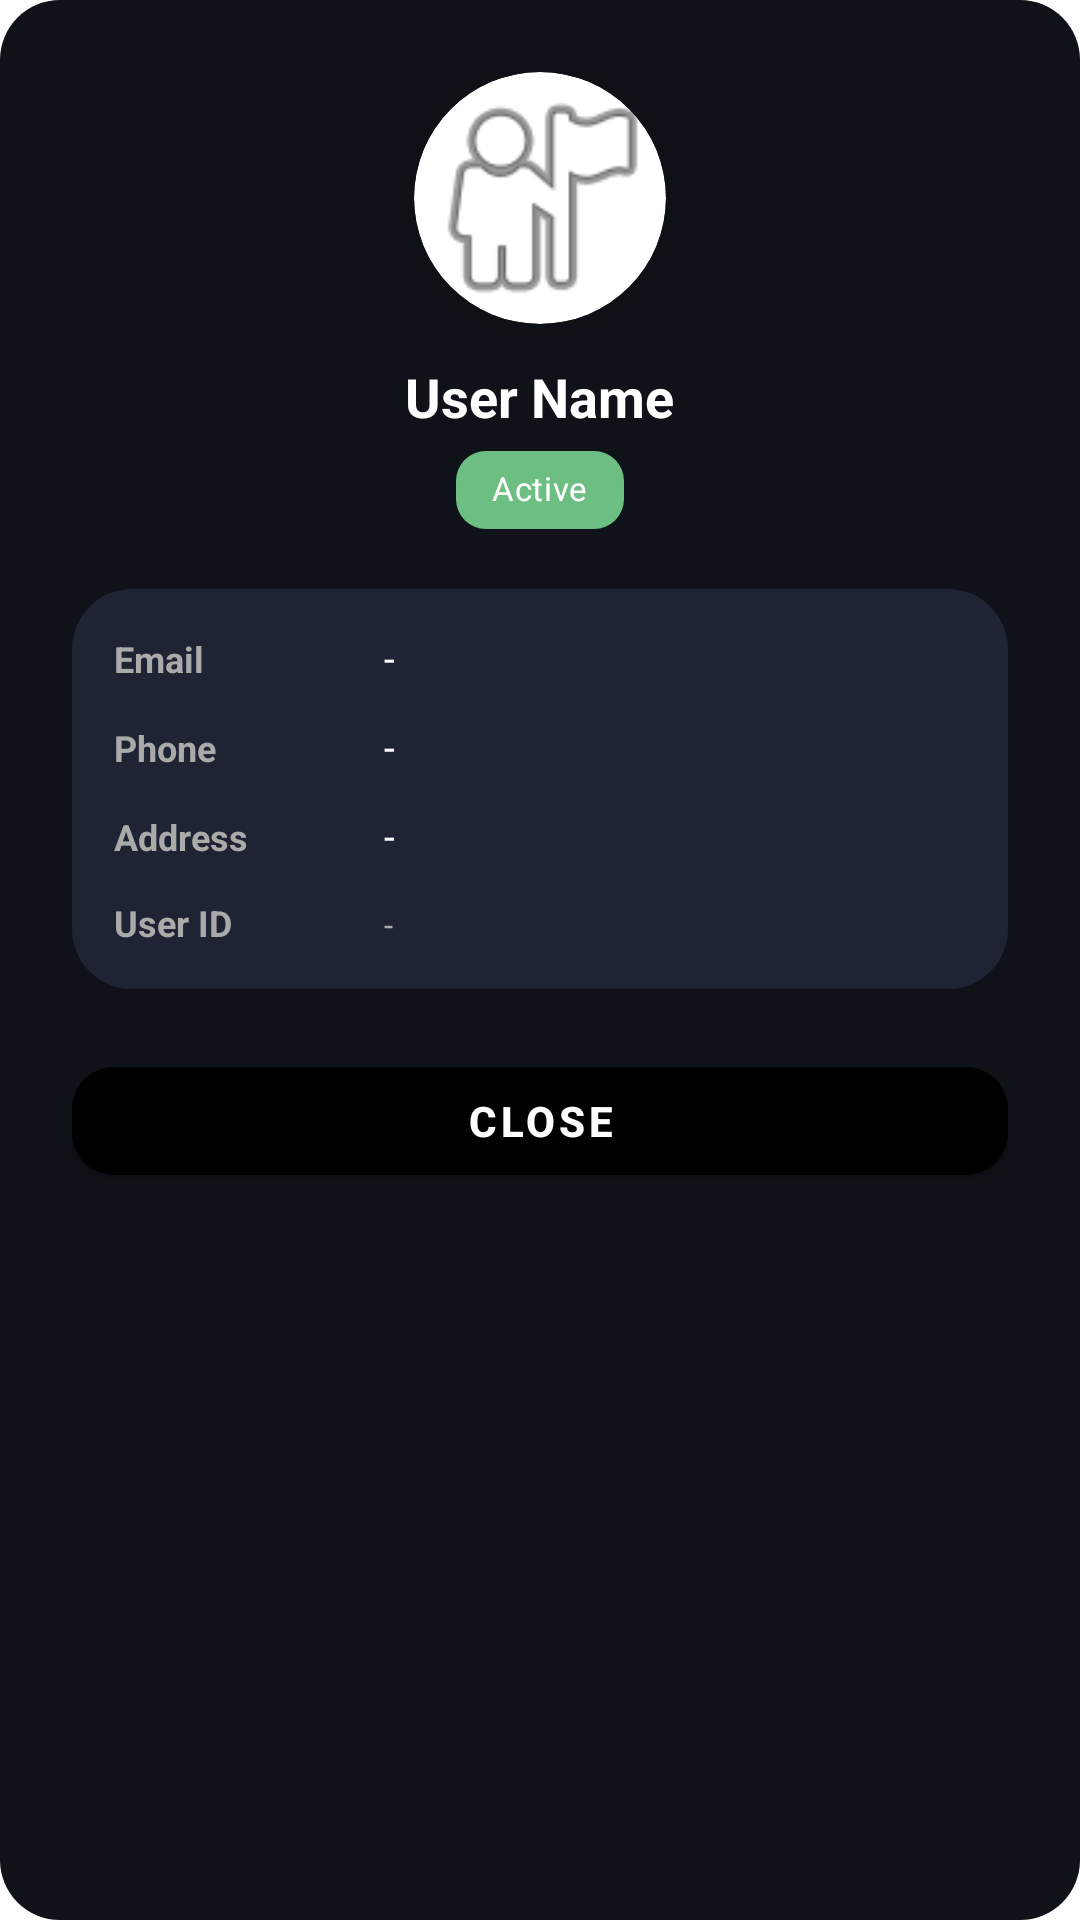

Icon bounding boxes for this 1080x1920 phone screenshot, format (x1, y1, x2, y2):
myplaces: (414, 72, 666, 324)
